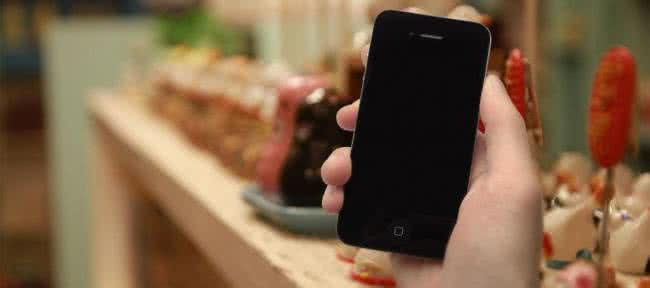phone: (353, 11, 479, 252)
